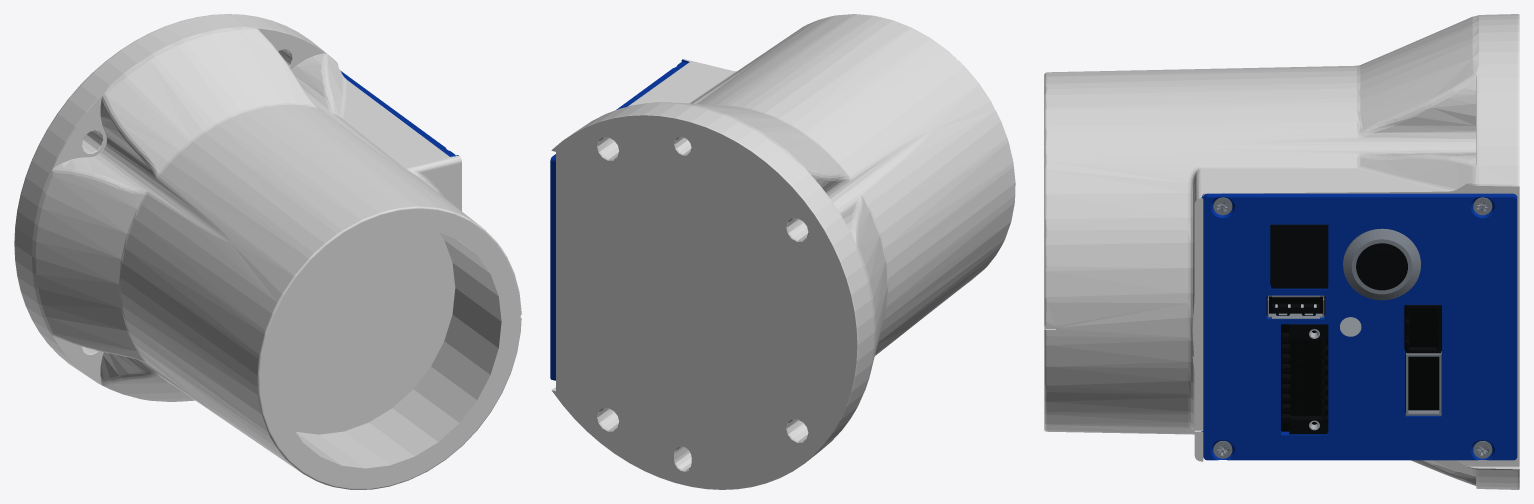
The picture shows the model from 3 angles, left to right: view 1: azimuth 30°, elevation 25°; view 2: azimuth 150°, elevation 25°; view 3: azimuth 270°, elevation 25°; orthographic projection. The views are drawn at different scales.
Visible parts, largest first — view 1: base_link; view 2: base_link; view 3: base_link.
Boxes of the visible parts, x1,y1,x2,y2 form: base_link: [14, 14, 521, 489]; base_link: [550, 14, 1015, 489]; base_link: [1044, 14, 1519, 489].
Bounding box in the file's own units: 0.0985 × 0.1098 × 0.1097.
